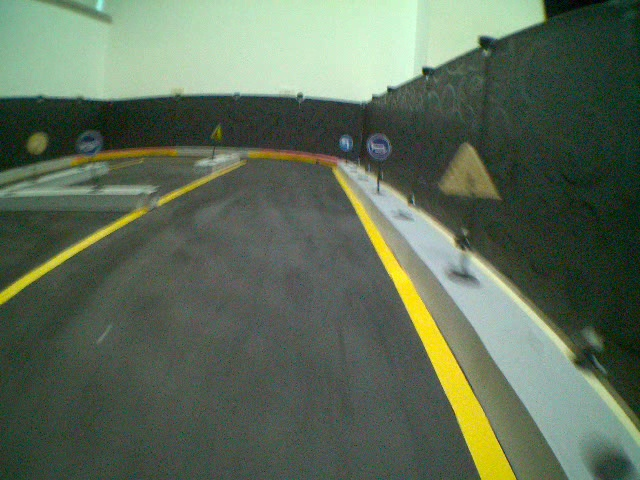fast: (208, 122, 225, 143)
horn: (367, 134, 392, 161)
turn: (337, 133, 354, 153)
